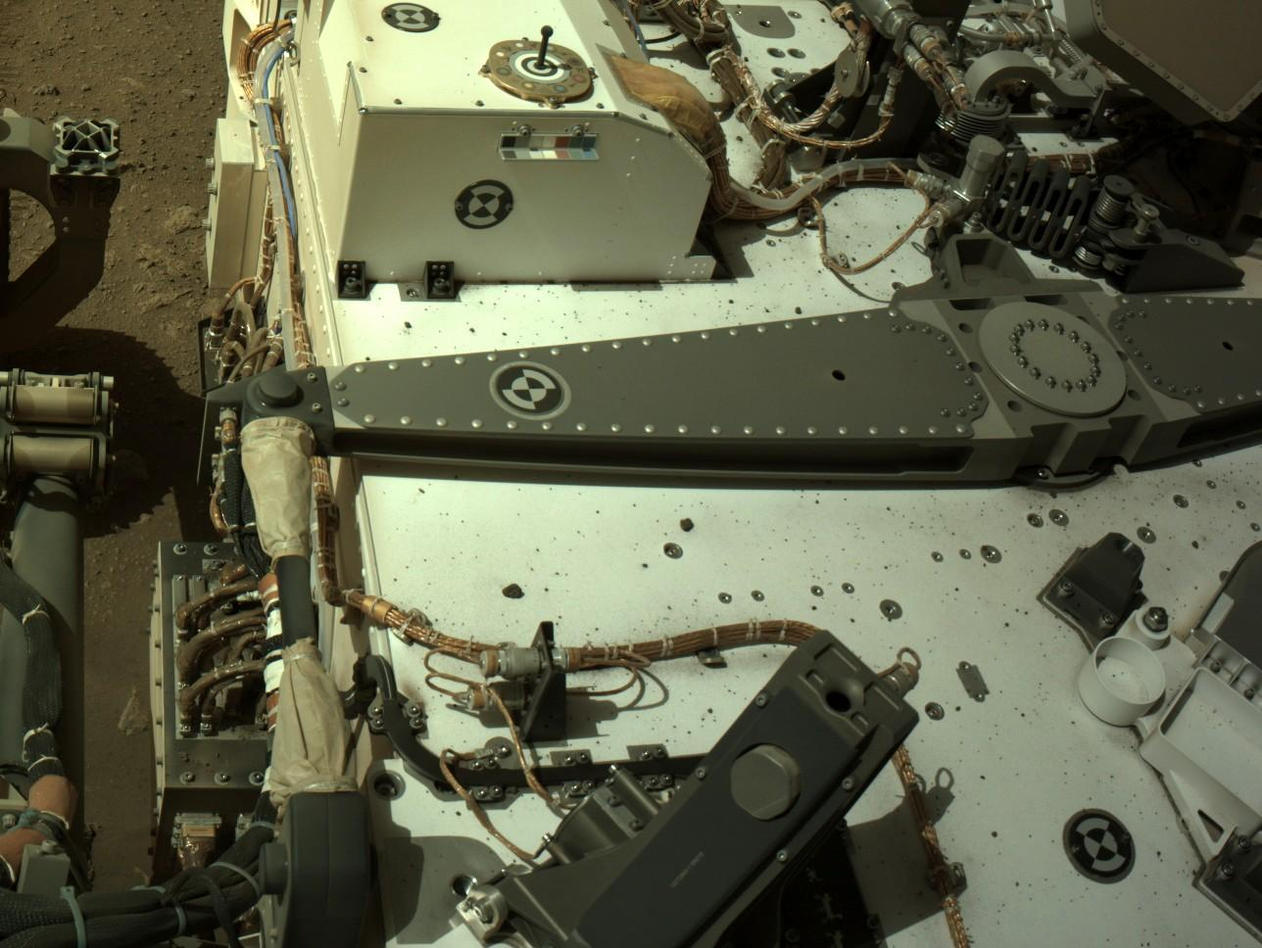soil: (1, 7, 310, 888)
